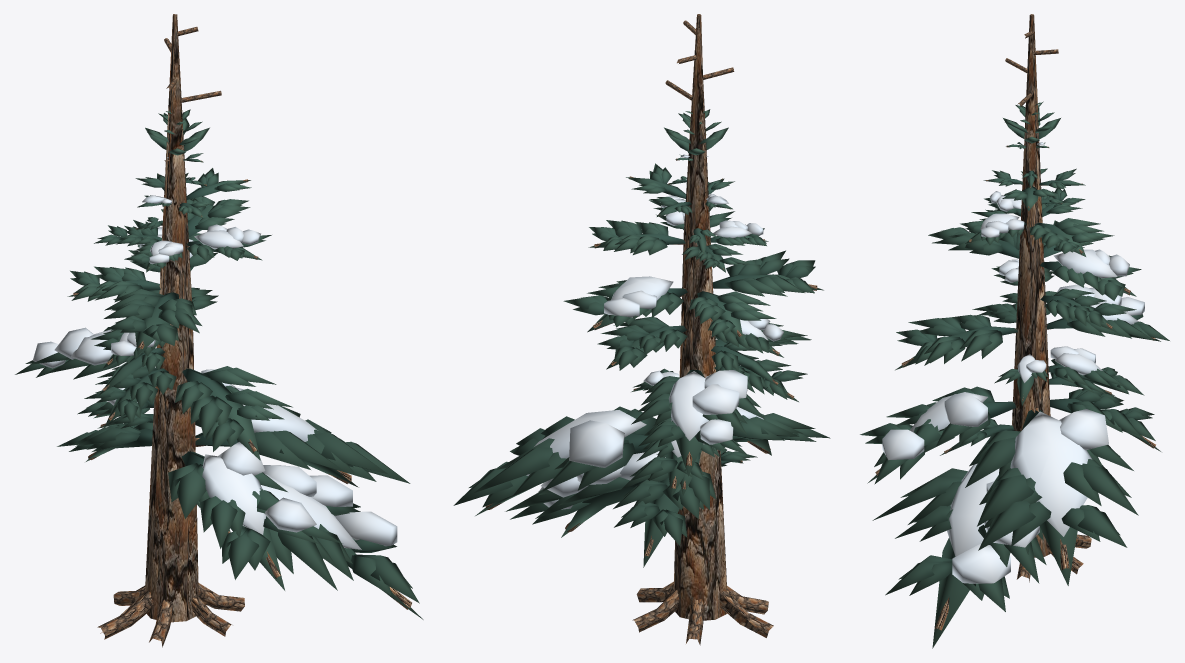
Rendered from tree13.glb.
The picture shows the model from 3 angles, left to right: view 1: azimuth 30°, elevation 25°; view 2: azimuth 150°, elevation 25°; view 3: azimuth 270°, elevation 25°; orthographic projection. The views are drawn at different scales.
Parts seen in each view (by area): view 1: Alpine13_1 (×2), Alpine13_0 (×2), Alpine13_2 (×2); view 2: Alpine13_1 (×2), Alpine13_0 (×2), Alpine13_2 (×2); view 3: Alpine13_1 (×2), Alpine13_2 (×2), Alpine13_0 (×2).
Boxes of the visible parts, x1,y1,x2,y2 form: Alpine13_1 (×2): (15, 109, 423, 619); Alpine13_0 (×2): (73, 14, 411, 647); Alpine13_2 (×2): (32, 157, 397, 549); Alpine13_1 (×2): (453, 109, 830, 567); Alpine13_0 (×2): (485, 14, 817, 645); Alpine13_2 (×2): (526, 154, 783, 509); Alpine13_1 (×2): (860, 101, 1169, 648); Alpine13_2 (×2): (882, 142, 1144, 583); Alpine13_0 (×2): (875, 14, 1155, 630).
Bounding box in the file's own units: 7.1 × 13.38 × 6.87.
Materials: 6 (2 with a texture image).
